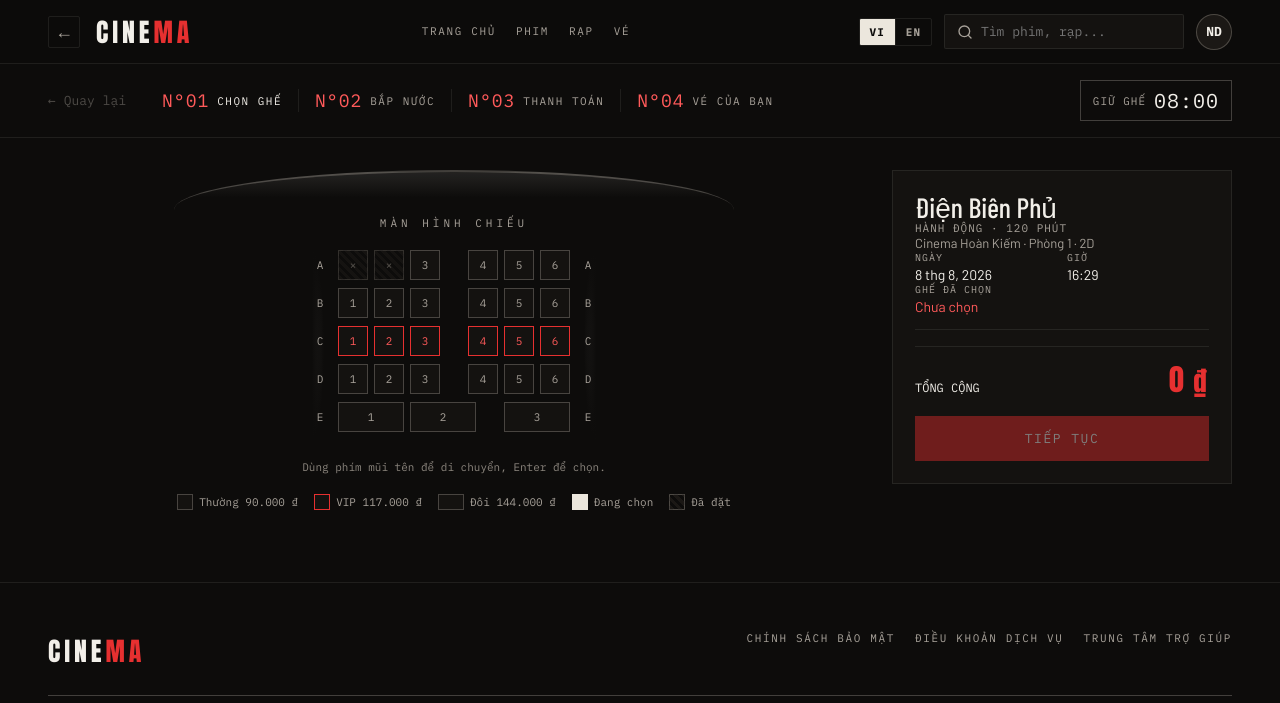
BookingWizard — bước ③ thanh toán › server có Stripe thì hiện thẻ và chọn sẵn thẻ
The image size is (1280, 703).
Check: the heading "Điện Biên Phủ" is shown, box [915,190,1057,224]
Click the cell named "Ghế B1,".
click(353, 303)  # box [338,288,368,318]
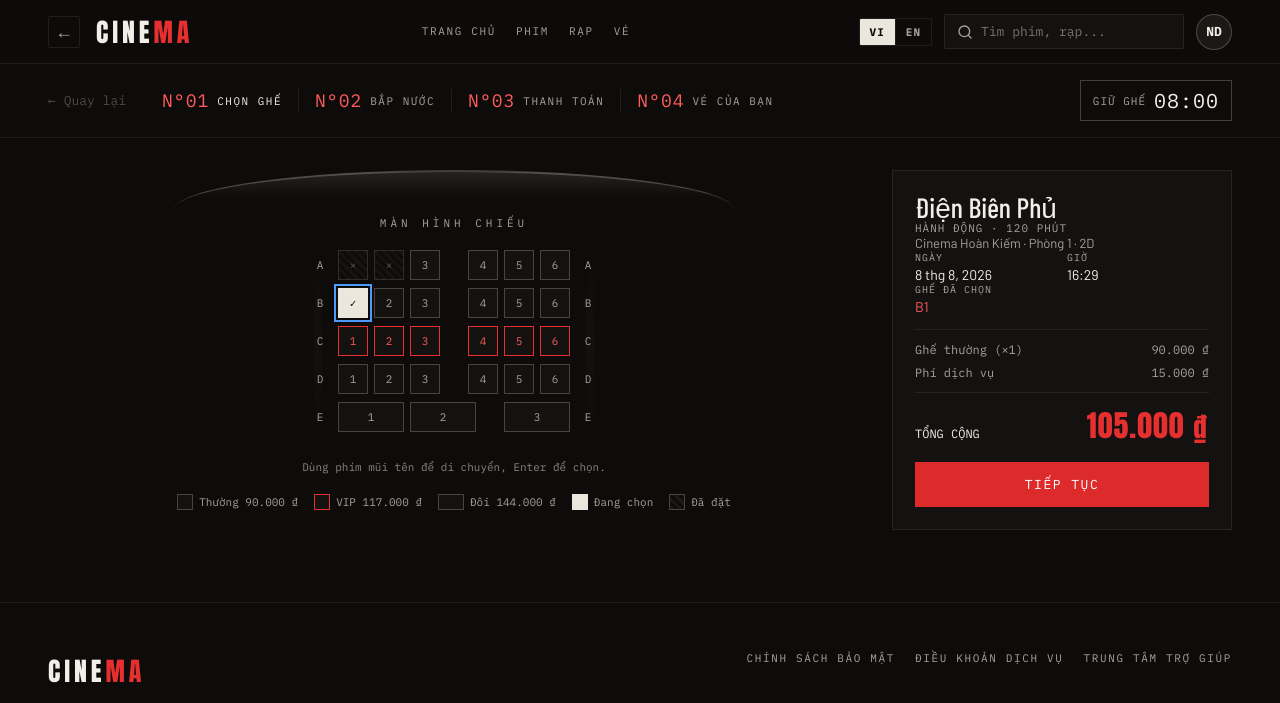
Click the button "Tiếp tục".
click(1062, 484)  # box [915,462,1209,507]
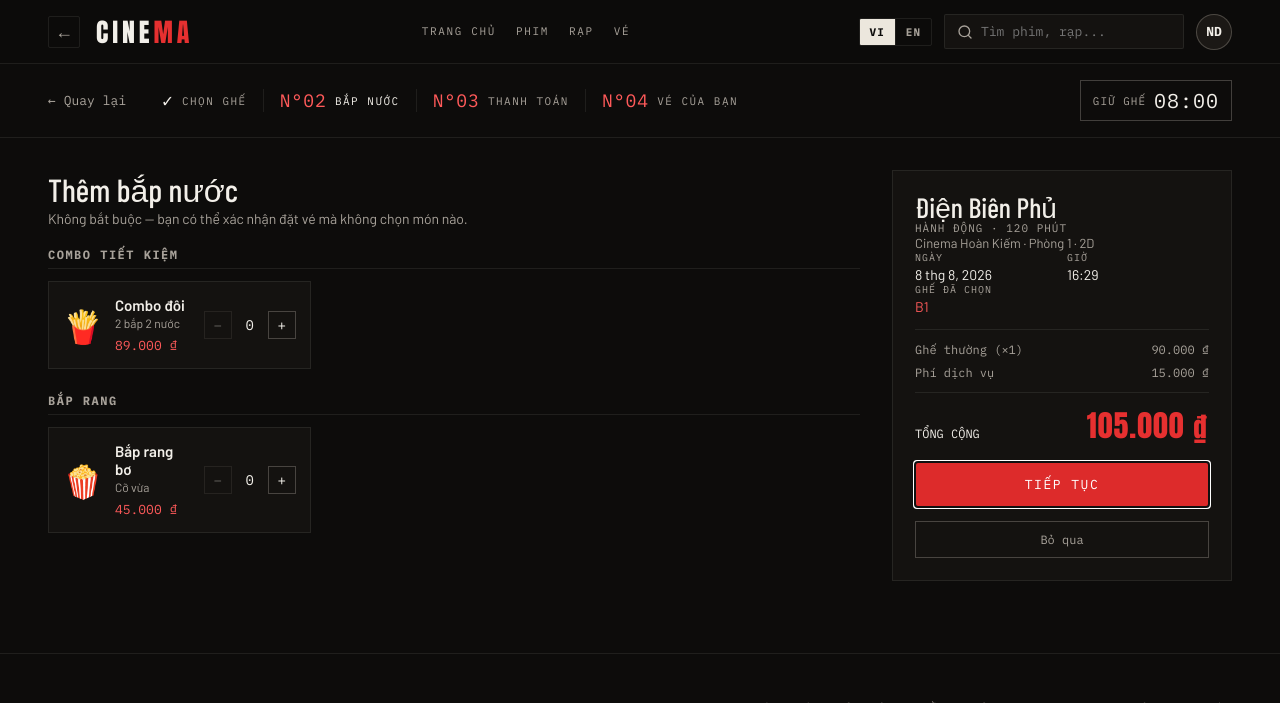
Click the button "Bỏ qua".
click(1062, 540)  # box [915,521,1209,558]
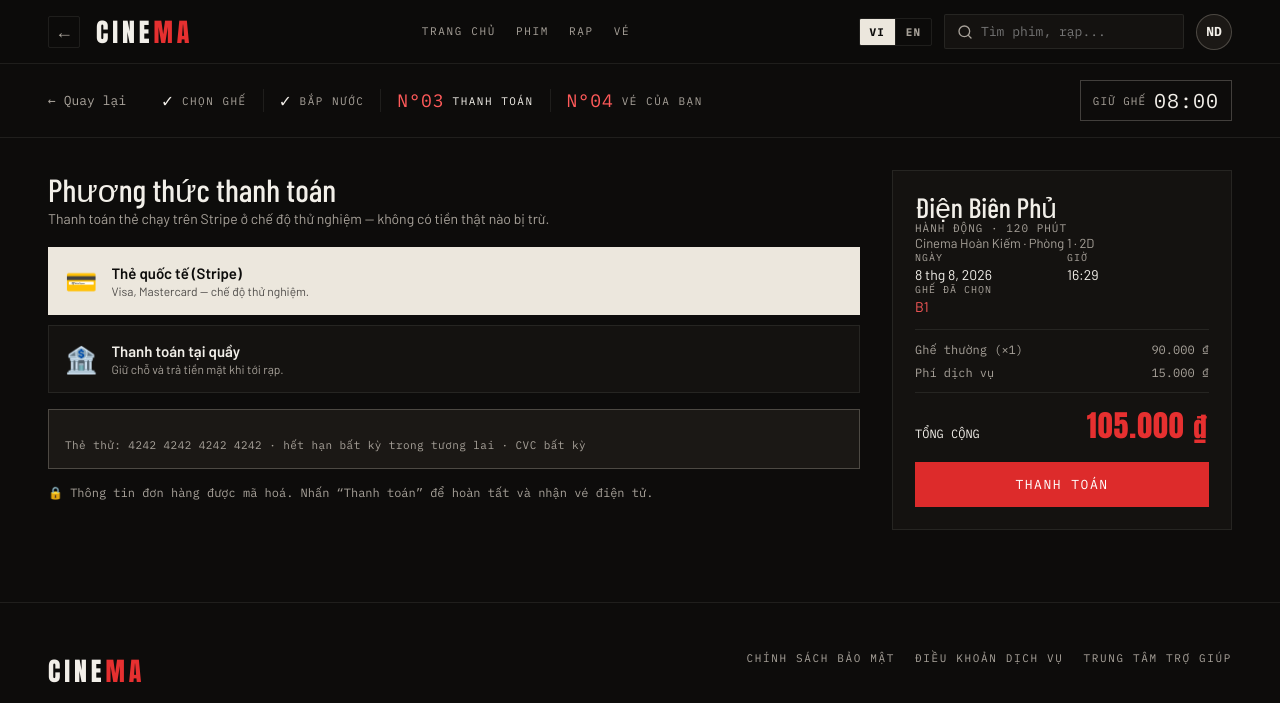
Check: the heading "Phương thức thanh toán" is shown, box [48,170,336,208]
Check: the radio button labelled "💳 Thẻ quốc tế (Stripe) Visa, Mastercard — chế độ thử nghiệm." is checked, box [48,247,860,315]
Check: the radio button labelled "🏦 Thanh toán tại quầy Giữ chỗ và trả tiền mặt khi tới rạp." is not checked, box [48,325,860,393]
